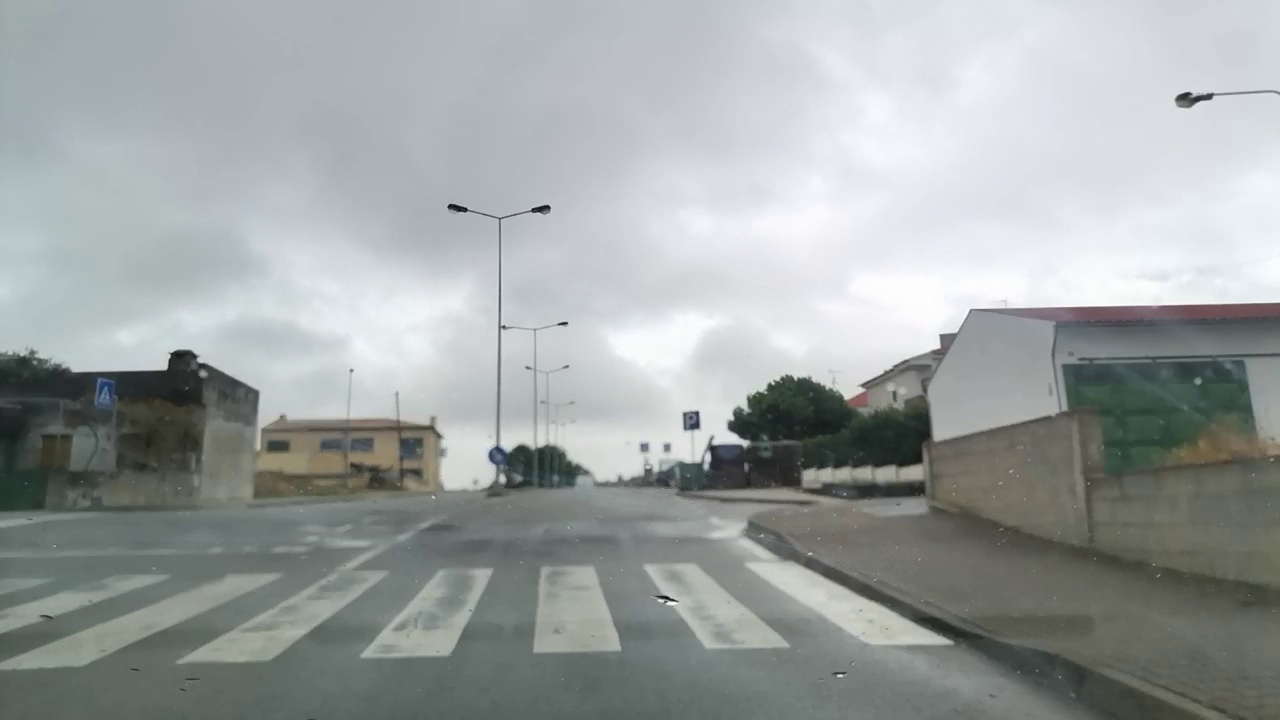Stairs: (0, 557, 953, 668)
